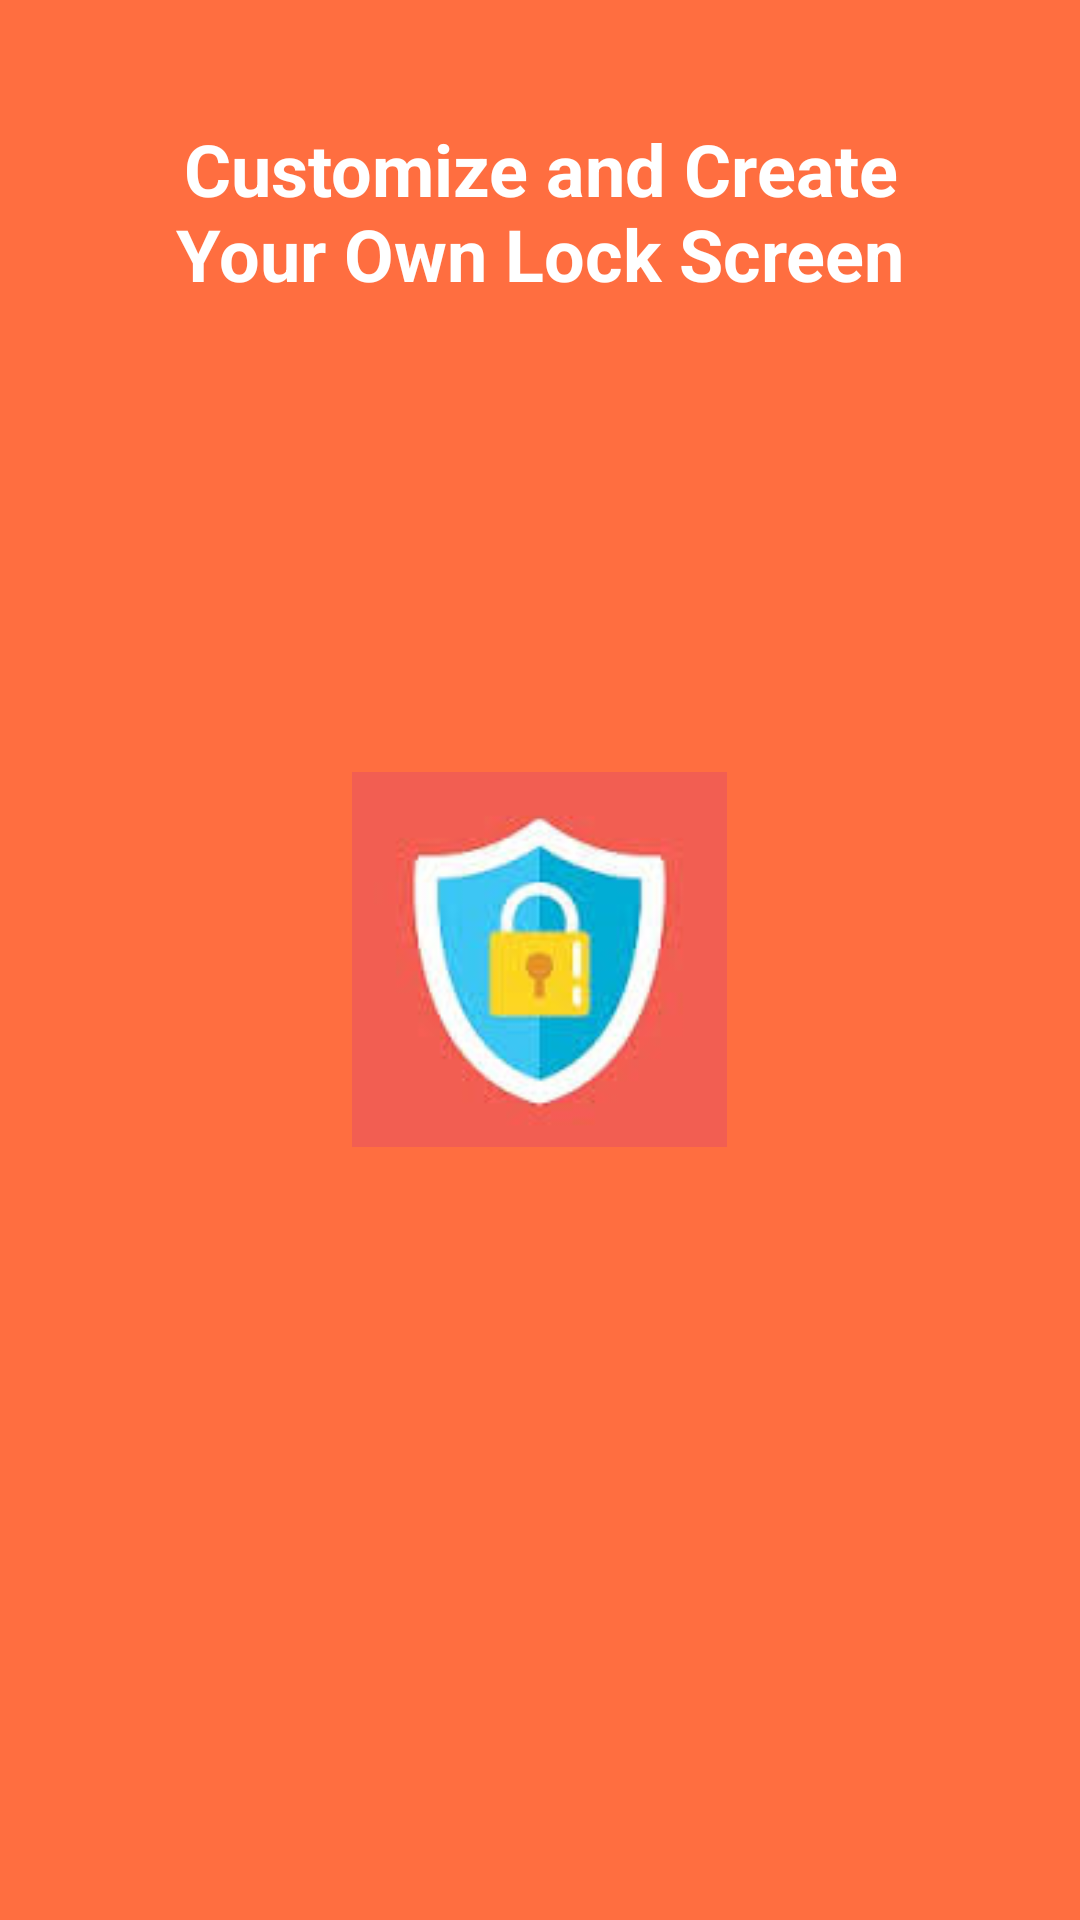

Screen size 1080 × 1920. Icon name, then its box in pixels as (x1, y1, x2, y2):
lock: (397, 816, 679, 1119)
